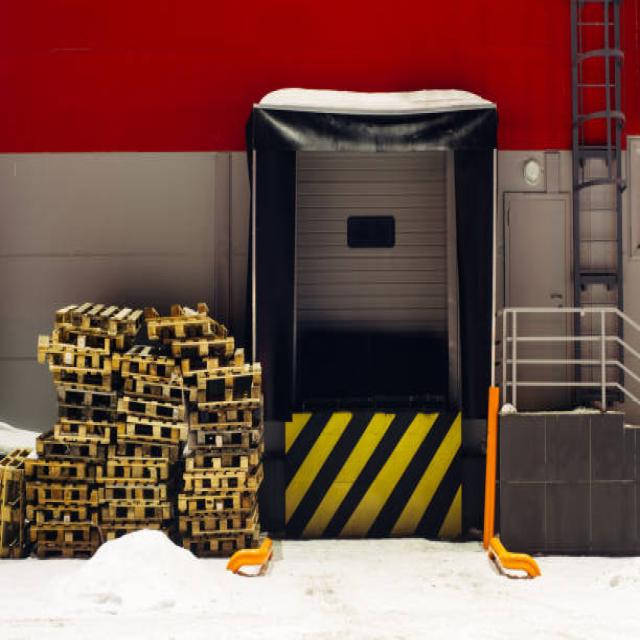Wooden-Pallets: (54, 309, 145, 338), (172, 486, 244, 509), (169, 336, 238, 358), (54, 384, 116, 406), (28, 523, 90, 542)
